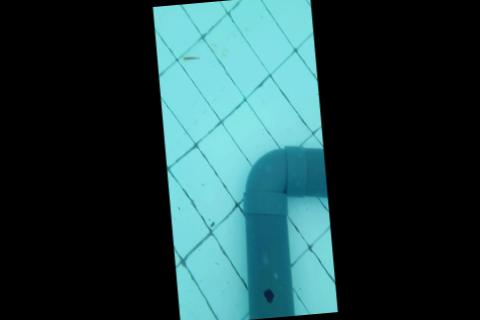kebocoran: (263, 287, 276, 304)
